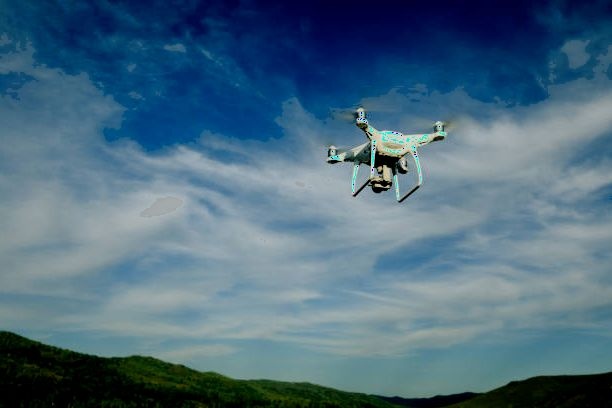Drone: (314, 102, 453, 206)
